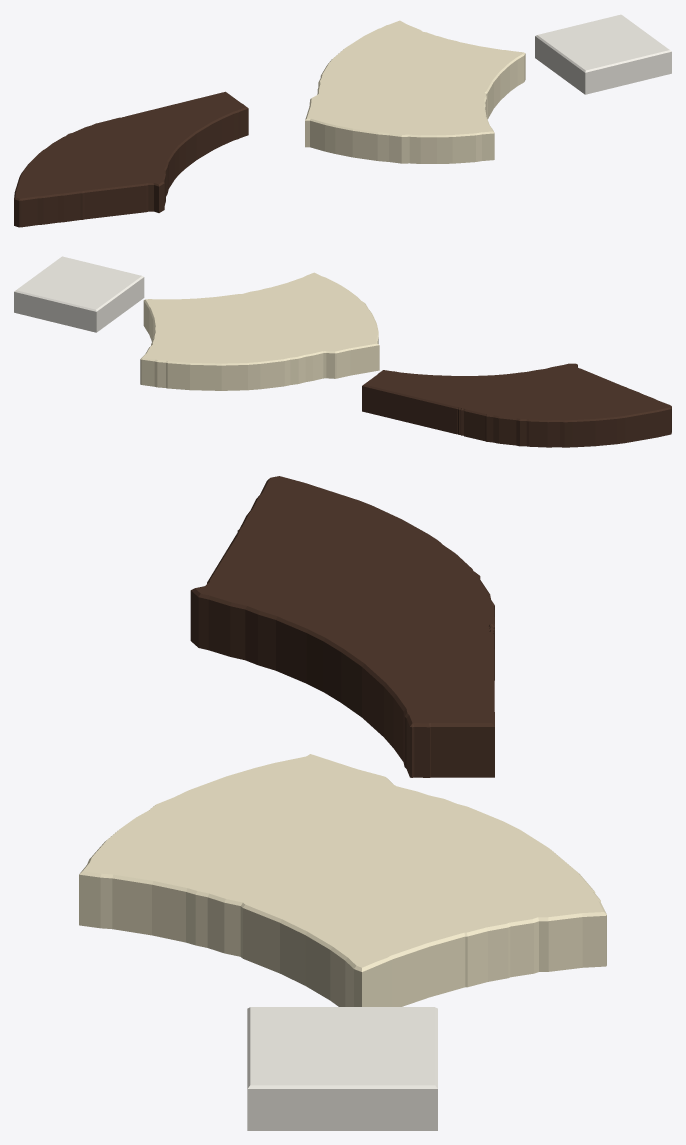
File: mahsulot.glb
3 renders of one model, top to bottom at view 1: azimuth 30°, elevation 25°; view 2: azimuth 150°, elevation 25°; view 3: azimuth 270°, elevation 25°, orthographic. The views are drawn at different scales.
Parts seen in each view (by area): view 1: mahsulot_B, mahsulot_A, mahsulot_V; view 2: mahsulot_B, mahsulot_A, mahsulot_V; view 3: mahsulot_B, mahsulot_A, mahsulot_V.
Boxes of the visible parts, x1,y1,x2,y2 form: mahsulot_B: (305, 20, 525, 163); mahsulot_A: (14, 91, 248, 227); mahsulot_V: (535, 14, 671, 94); mahsulot_B: (140, 272, 379, 390); mahsulot_A: (362, 363, 671, 447); mahsulot_V: (14, 256, 144, 332); mahsulot_B: (79, 754, 606, 1006); mahsulot_A: (190, 476, 494, 777); mahsulot_V: (247, 1007, 437, 1130).
Bounding box in the file's own units: 0.726 × 0.03 × 0.2687.
